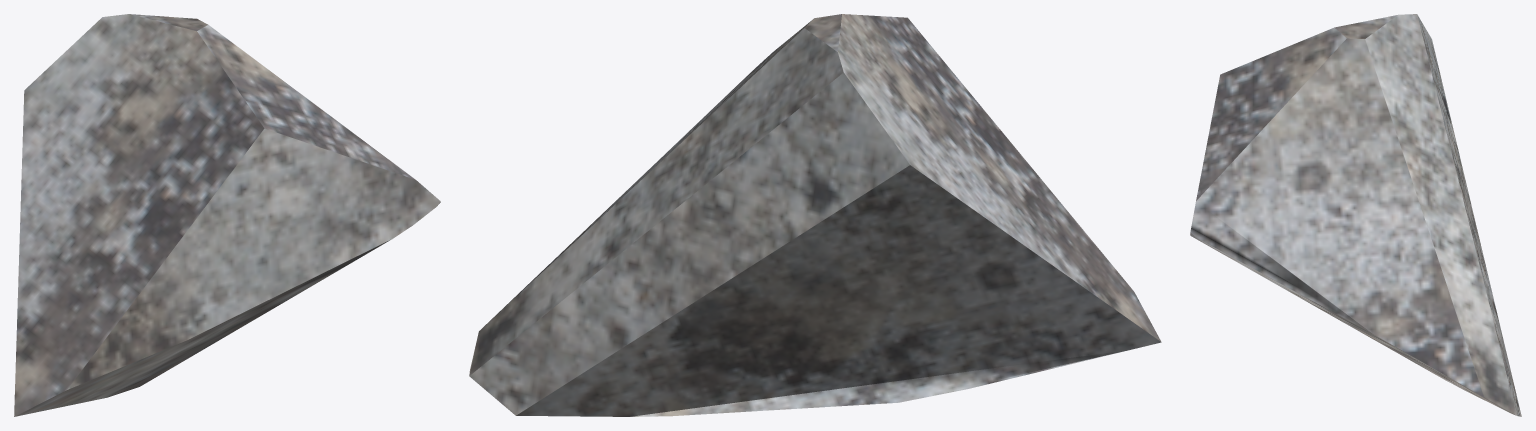
File: Asteroid_Large_001_02_001_03_014.fbx
3 renders of one model, left to right at view 1: azimuth 30°, elevation 25°; view 2: azimuth 150°, elevation 25°; view 3: azimuth 270°, elevation 25°, orthographic. The views are drawn at different scales.
Visible parts, largest first — view 1: Asteroid_Large_001_02_001_03_014; view 2: Asteroid_Large_001_02_001_03_014; view 3: Asteroid_Large_001_02_001_03_014.
Part boxes in pixels (x1=…): Asteroid_Large_001_02_001_03_014: x1=14, y1=14, x2=440, y2=416; Asteroid_Large_001_02_001_03_014: x1=469, y1=14, x2=1161, y2=416; Asteroid_Large_001_02_001_03_014: x1=1190, y1=14, x2=1521, y2=416.
Size of the model in its own units: 6.58 by 4.48 by 4.33.
